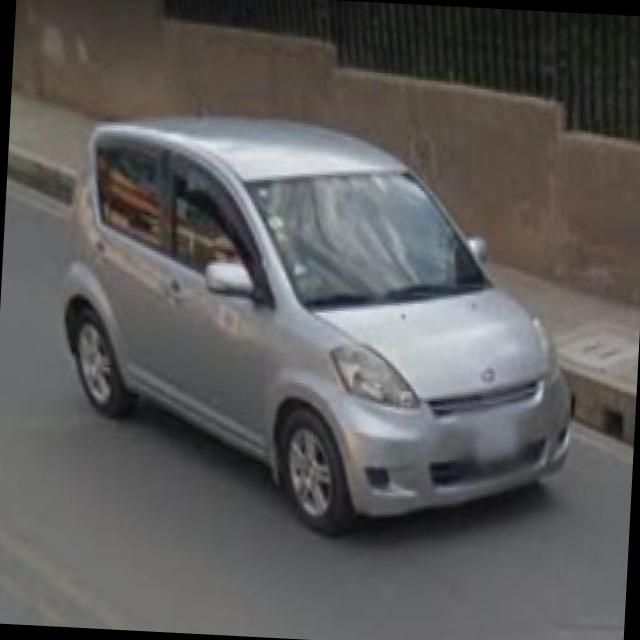car: (53, 121, 560, 545)
